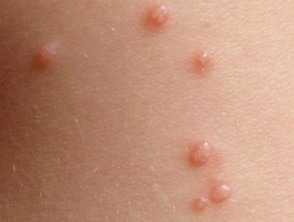Warts: (185, 133, 213, 172), (37, 39, 61, 75), (142, 2, 172, 29), (211, 181, 232, 209), (195, 49, 213, 74), (194, 191, 209, 217)
